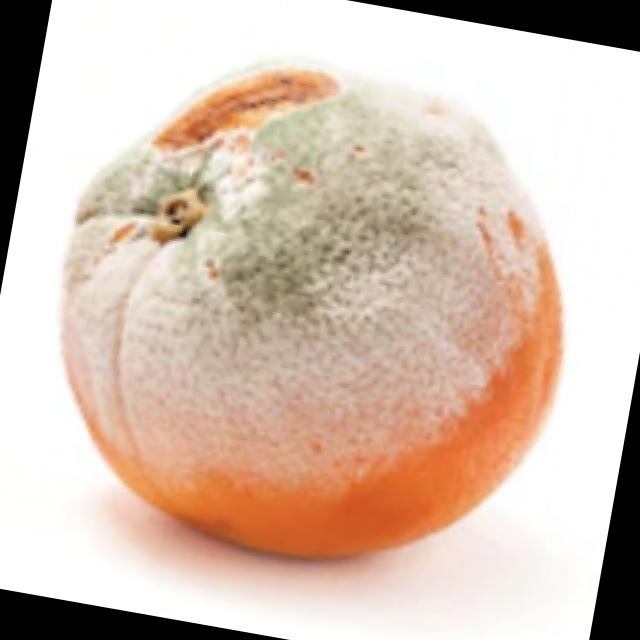rotten-orange: (24, 27, 609, 590)
